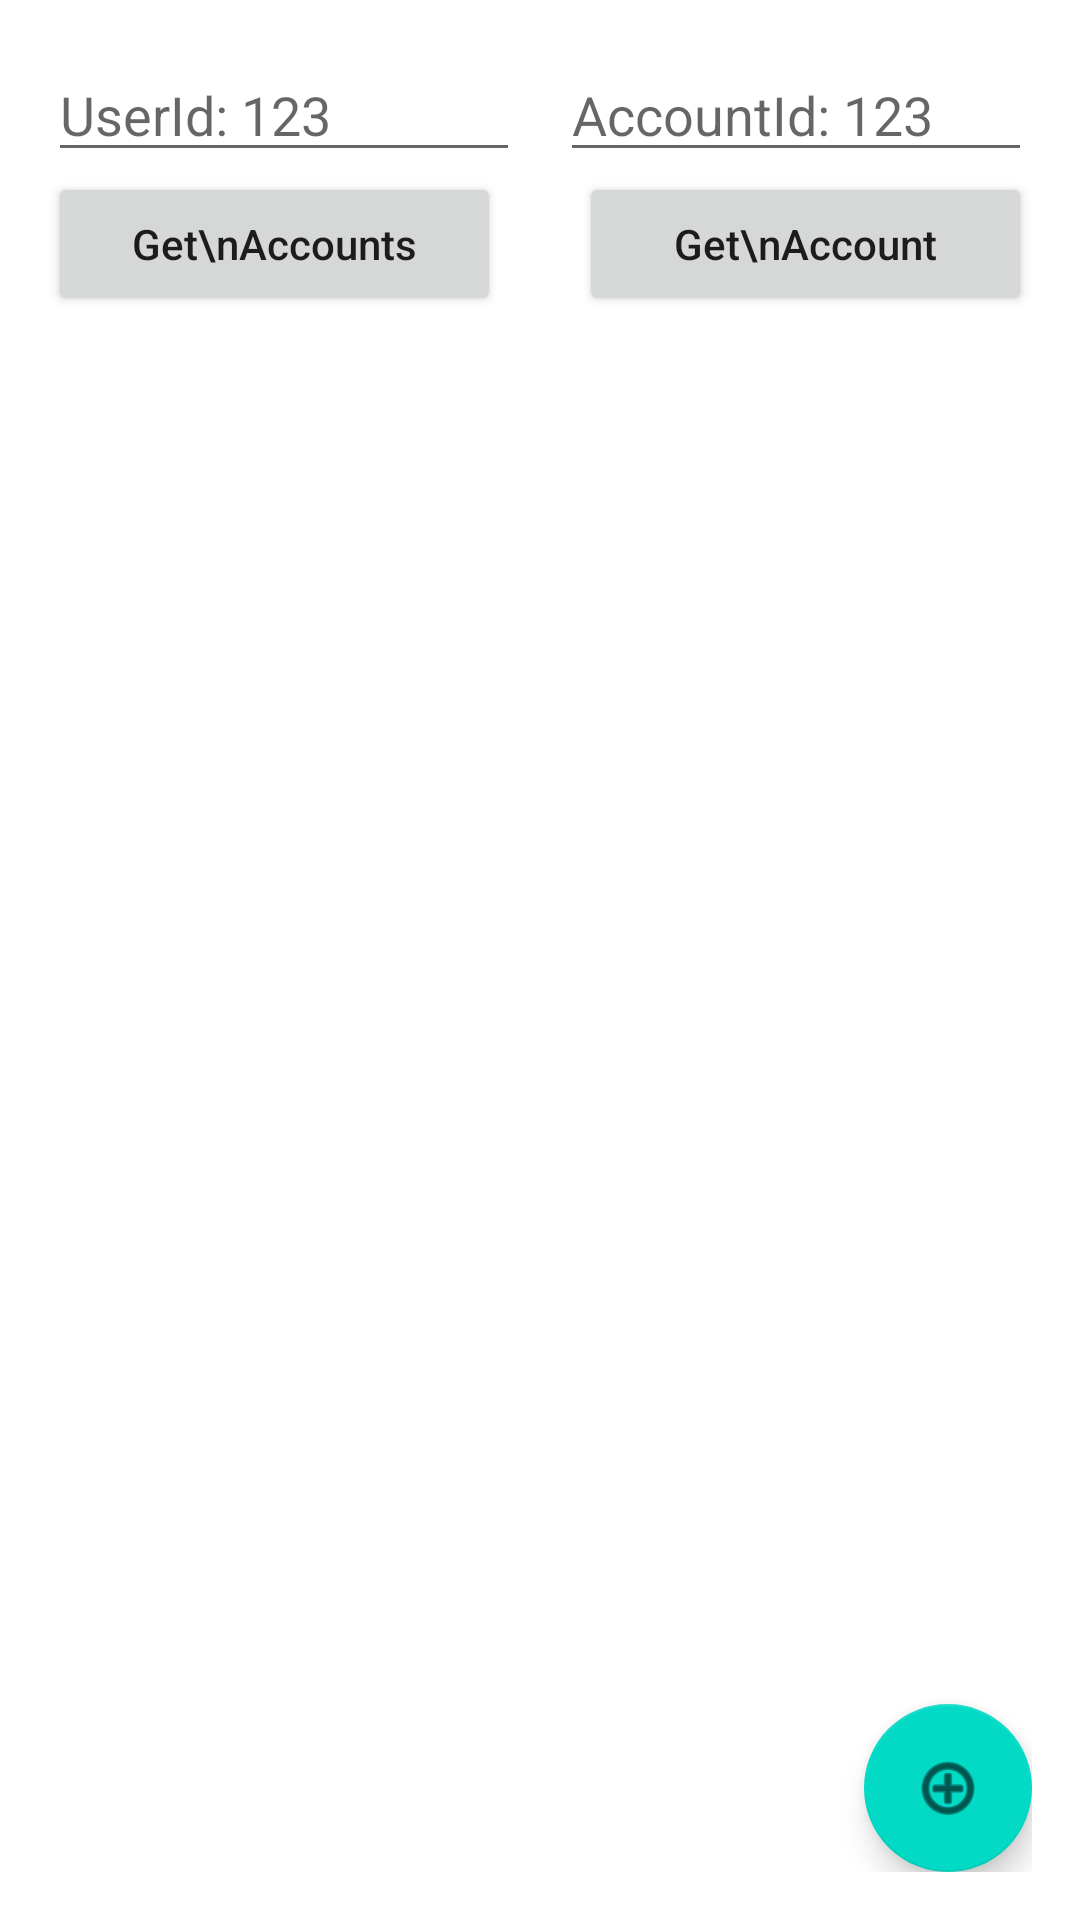

Where to tap for icons on this 1080w x 1920h app screen, as [x,y]:
add: [948,1788]
